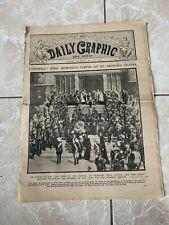paper: (19, 22, 163, 202)
